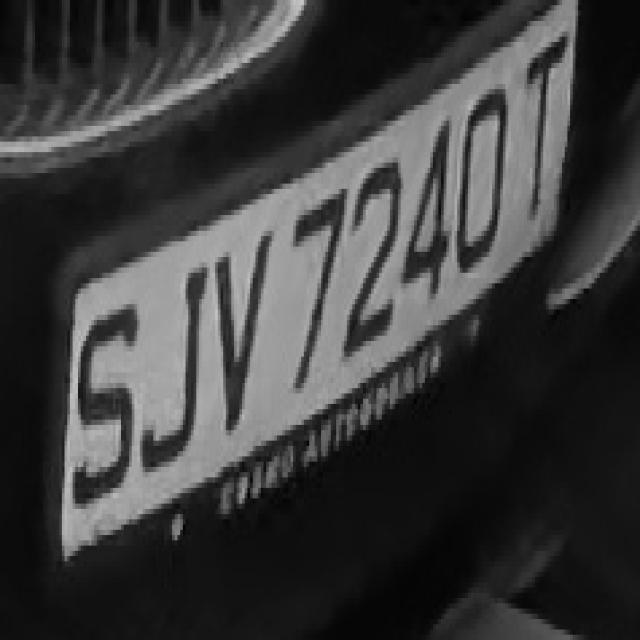0: (452, 79, 511, 278)
2: (344, 147, 412, 367)
4: (404, 120, 454, 336)
7: (285, 184, 352, 394)
J: (137, 252, 207, 482)
S: (72, 283, 140, 509)
T: (519, 16, 575, 231)
V: (202, 231, 274, 451)
